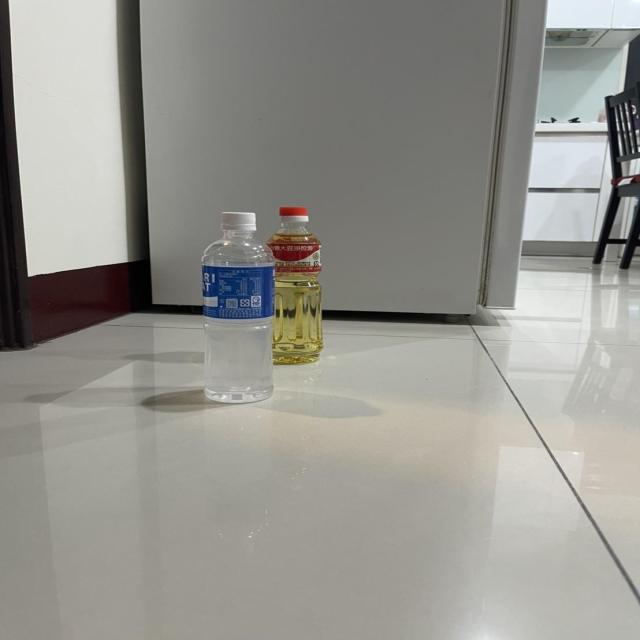bottle: (191, 201, 284, 414), (218, 196, 300, 373)
